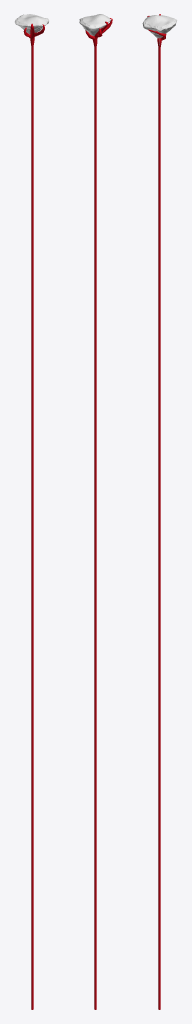
File: Isle_Controllable_VSlammer.fbx
3 views of the same model, side by side, from view 1: azimuth 90°, elevation 25°; view 2: azimuth 150°, elevation 25°; view 3: azimuth 270°, elevation 25° (orthographic).
Visible parts, largest first — view 1: Isle_Controllable_VSlammer_Roots, Isle_Controllable_VSlammer_Land; view 2: Isle_Controllable_VSlammer_Roots, Isle_Controllable_VSlammer_Land; view 3: Isle_Controllable_VSlammer_Roots, Isle_Controllable_VSlammer_Land.
Part boxes in pixels (box(x1,y1,x2,y2)): Isle_Controllable_VSlammer_Roots: box(23, 23, 44, 1009); Isle_Controllable_VSlammer_Land: box(15, 14, 48, 34); Isle_Controllable_VSlammer_Roots: box(84, 18, 112, 1009); Isle_Controllable_VSlammer_Land: box(79, 14, 111, 36); Isle_Controllable_VSlammer_Roots: box(147, 14, 173, 1009); Isle_Controllable_VSlammer_Land: box(142, 15, 176, 38).
Bounding box in the file's own units: 1471 × 49034 × 1543.
